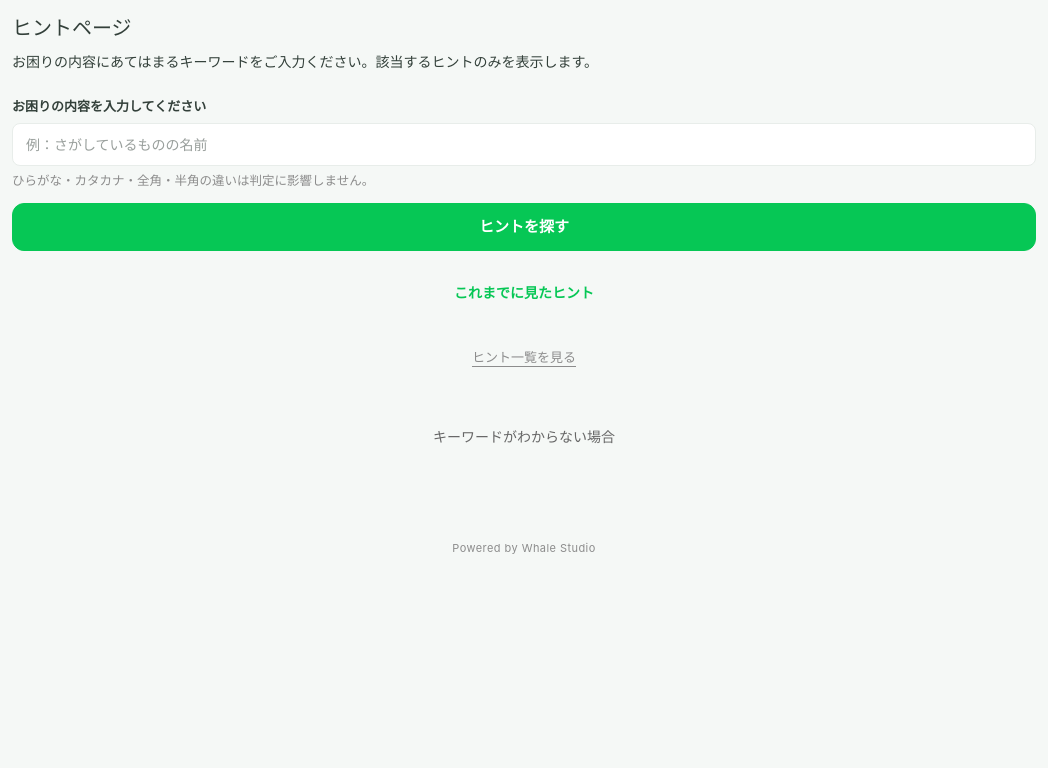
Test: 0 件 › 指定文言のエラーと「入力のヒント」2 項目が出る
Type "そんな言葉はない" into the field labelled "お困りの内容を入力してください" at (524, 144), box [12,123,1036,166]
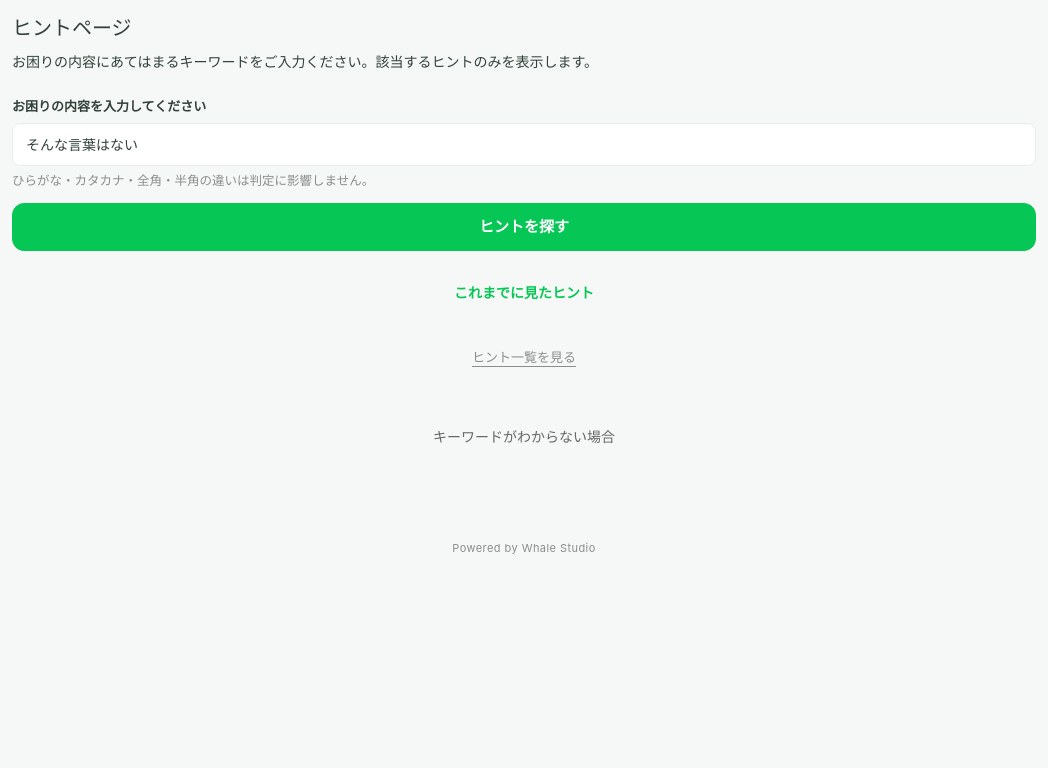
Click the button "ヒントを探す" at (524, 227), box [12,203,1036,251]
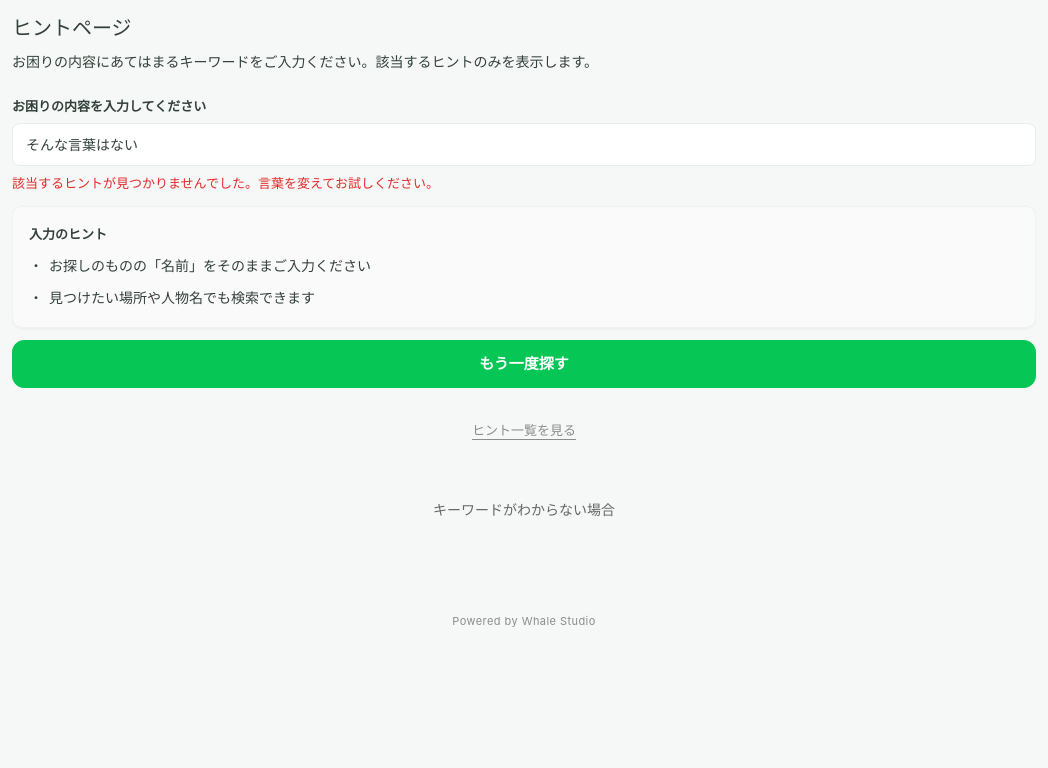
Now the message reads "該当するヒントが見つかりませんでした。言葉を変えてお試しください。", box [12,175,439,191]
Now the heading "入力のヒント" is shown, box [29,226,107,242]
Now the text "お探しのものの「名前」をそのままご入力ください" is shown, box [49,253,371,279]
